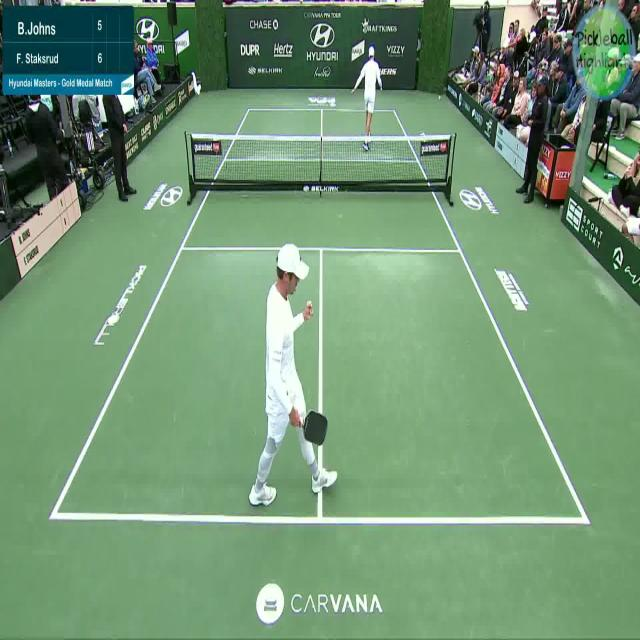ball: (435, 85, 445, 108)
